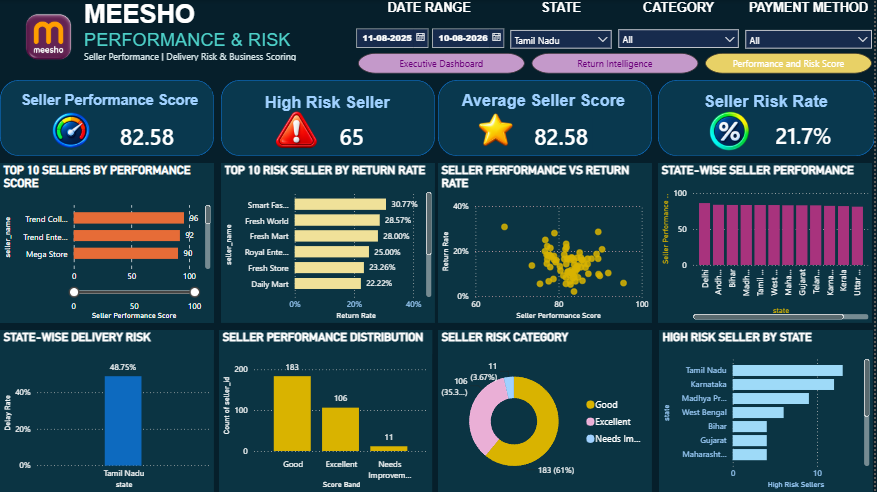

The dashboard page shown, as its layout file describes it:
{"tool":"powerbi","page":{"name":"Performance and Risk Score","canvas":[1280,720],"ordinal":2},"visuals":[{"type":"textbox","box":[122.5,0,532.5,88.8],"z":0},{"type":"image","box":[0,0,142,108.3],"z":1000},{"type":"slicer","title":"DATE RANGE","fields":{"Values":["meesho_project orders.order_date"]},"box":[514.3,0,228.6,77.1],"z":2000},{"type":"slicer","title":"STATE","fields":{"Values":["meesho_project customers.state"]},"box":[742.5,0,158,89.3],"z":3000},{"type":"slicer","title":"PAYMENT METHOD","fields":{"Values":["meesho_project orders.payment_method"]},"box":[1085.4,0,194.6,71.7],"z":4000},{"type":"slicer","title":"CATEGORY","fields":{"Values":["meesho_project products.category"]},"box":[900.2,0,185.9,74.6],"z":5000},{"type":"shape","box":[0,117.1,313.2,111.2],"z":6000},{"type":"textbox","box":[10.2,130.2,300,38],"z":7000},{"type":"cardVisual","fields":{"Data":["Measures (2).Seller Performance Score"]},"box":[156.6,172.7,117.1,49.8],"z":8000},{"type":"shape","box":[323.4,117.1,313.2,111.2],"z":9000},{"type":"shape","box":[641.4,117.1,313.2,111.2],"z":14000},{"type":"shape","box":[962.9,117.1,317.1,111.4],"z":15000},{"type":"cardVisual","fields":{"Data":["Measures (2).Seller Risk Rate"]},"box":[1117.1,171.4,118.6,50],"z":16000},{"type":"cardVisual","fields":{"Data":["Measures (2).Average Seller Score"]},"box":[775.7,172.9,91.4,50],"z":17000},{"type":"cardVisual","fields":{"Data":["Measures (2).High Risk Sellers"]},"box":[450,172.9,128.6,50],"z":18000},{"type":"textbox","box":[336.6,131.7,285.4,41],"z":24000},{"type":"textbox","box":[655.6,128.8,279.5,41],"z":28000},{"type":"textbox","box":[979,130.2,283.9,41],"z":29000},{"type":"clusteredBarChart","title":"TOP 10 SELLERS BY PERFORMANCE SCORE","fields":{"Category":["meesho_project sellers.seller_name"],"Y":["Measures (2).Seller Performance Score"]},"box":[0,238.5,313.2,234.1],"z":38000},{"type":"clusteredBarChart","title":"TOP 10 RISK SELLER BY RETURN RATE","fields":{"Category":["meesho_project sellers.seller_name"],"Y":["Measures (2).Return Rate"]},"box":[323.4,238.5,313.2,234.1],"z":39000},{"type":"scatterChart","title":"SELLER PERFORMANCE VS RETURN RATE","fields":{"Category":["meesho_project sellers.seller_name"],"X":["Measures (2).Seller Performance Score"],"Y":["Measures (2).Return Rate"]},"box":[641,238.5,313.2,234.1],"z":40000},{"type":"clusteredColumnChart","title":"STATE-WISE SELLER PERFORMANCE","fields":{"Category":["meesho_project sellers.state"],"Y":["Measures (2).Seller Performance Score"]},"box":[962.9,238.5,313.2,234.1],"z":41000},{"type":"clusteredColumnChart","title":"STATE-WISE DELIVERY RISK","fields":{"Category":["meesho_project customers.state"],"Y":["Measures (2).Delay Rate"]},"box":[0,482.9,313.2,237.1],"z":42000},{"type":"clusteredColumnChart","title":"SELLER PERFORMANCE DISTRIBUTION","fields":{"Category":["meesho_project sellers.Score Band"],"Y":["CountNonNull(meesho_project sellers.seller_id)"]},"box":[320.5,482.9,311.7,237.1],"z":43000},{"type":"donutChart","title":"SELLER RISK CATEGORY","fields":{"Category":["meesho_project sellers.Score Band"],"Y":["CountNonNull(meesho_project sellers.seller_id)"]},"box":[641,482.9,313.2,237.1],"z":44000},{"type":"clusteredBarChart","title":"HIGH RISK SELLER BY STATE","fields":{"Category":["meesho_project sellers.state"],"Y":["Measures (2).High Risk Sellers"]},"box":[964.4,482.9,313.2,237.1],"z":45000},{"type":"image","box":[61.5,155.1,80.5,68.8],"z":45001},{"type":"image","box":[682,158,82,65.9],"z":45002},{"type":"image","box":[395.1,155.1,84.9,68.8],"z":45003},{"type":"image","box":[1021.5,162.4,99.5,60],"z":45004},{"type":"pageNavigator","box":[523.9,77.6,753.7,30.7],"z":45005}]}

Visuals, with their boxes in screenshot pixels (x1, y1, x2, y2), scaled from the page's 1280x720 canvas onto the 877x492 screenshot:
textbox: {"left": 84, "top": 0, "right": 449, "bottom": 61}
image: {"left": 0, "top": 0, "right": 97, "bottom": 74}
"DATE RANGE" slicer: {"left": 352, "top": 0, "right": 509, "bottom": 53}
"STATE" slicer: {"left": 509, "top": 0, "right": 617, "bottom": 61}
"PAYMENT METHOD" slicer: {"left": 744, "top": 0, "right": 876, "bottom": 49}
"CATEGORY" slicer: {"left": 617, "top": 0, "right": 744, "bottom": 51}
shape: {"left": 0, "top": 80, "right": 215, "bottom": 156}
textbox: {"left": 7, "top": 89, "right": 213, "bottom": 115}
cardVisual - Measures (2).Seller Performance Score: {"left": 107, "top": 118, "right": 188, "bottom": 152}
shape: {"left": 222, "top": 80, "right": 436, "bottom": 156}
shape: {"left": 439, "top": 80, "right": 654, "bottom": 156}
shape: {"left": 660, "top": 80, "right": 876, "bottom": 156}
cardVisual - Measures (2).Seller Risk Rate: {"left": 765, "top": 117, "right": 847, "bottom": 151}
cardVisual - Measures (2).Average Seller Score: {"left": 531, "top": 118, "right": 594, "bottom": 152}
cardVisual - Measures (2).High Risk Sellers: {"left": 308, "top": 118, "right": 396, "bottom": 152}
textbox: {"left": 231, "top": 90, "right": 426, "bottom": 118}
textbox: {"left": 449, "top": 88, "right": 641, "bottom": 116}
textbox: {"left": 671, "top": 89, "right": 865, "bottom": 117}
"TOP 10 SELLERS BY PERFORMANCE SCORE" clusteredBarChart: {"left": 0, "top": 163, "right": 215, "bottom": 323}
"TOP 10 RISK SELLER BY RETURN RATE" clusteredBarChart: {"left": 222, "top": 163, "right": 436, "bottom": 323}
"SELLER PERFORMANCE VS RETURN RATE" scatterChart: {"left": 439, "top": 163, "right": 654, "bottom": 323}
"STATE-WISE SELLER PERFORMANCE" clusteredColumnChart: {"left": 660, "top": 163, "right": 874, "bottom": 323}
"STATE-WISE DELIVERY RISK" clusteredColumnChart: {"left": 0, "top": 330, "right": 215, "bottom": 491}
"SELLER PERFORMANCE DISTRIBUTION" clusteredColumnChart: {"left": 220, "top": 330, "right": 433, "bottom": 491}
"SELLER RISK CATEGORY" donutChart: {"left": 439, "top": 330, "right": 654, "bottom": 491}
"HIGH RISK SELLER BY STATE" clusteredBarChart: {"left": 661, "top": 330, "right": 875, "bottom": 491}
image: {"left": 42, "top": 106, "right": 97, "bottom": 153}
image: {"left": 467, "top": 108, "right": 523, "bottom": 153}
image: {"left": 271, "top": 106, "right": 329, "bottom": 153}
image: {"left": 700, "top": 111, "right": 768, "bottom": 152}
pageNavigator: {"left": 359, "top": 53, "right": 875, "bottom": 74}
